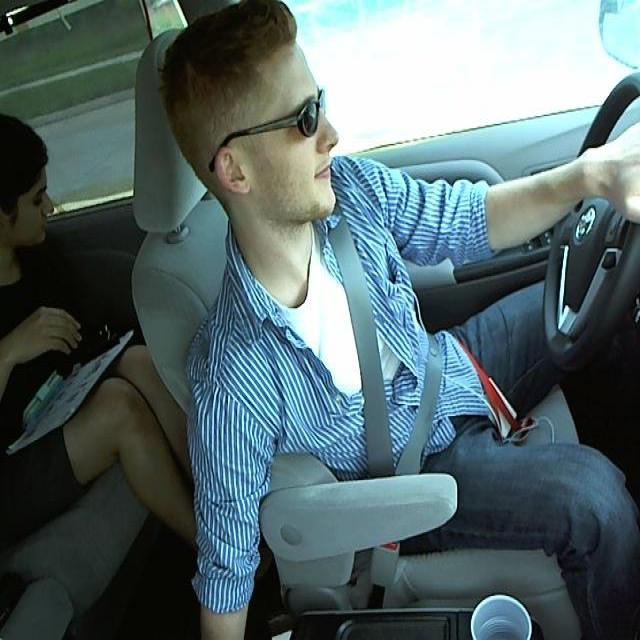seatbelt: (319, 229, 405, 471)
